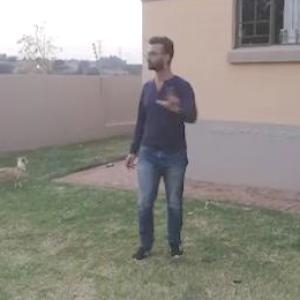land_hand: (153, 81, 186, 119)
